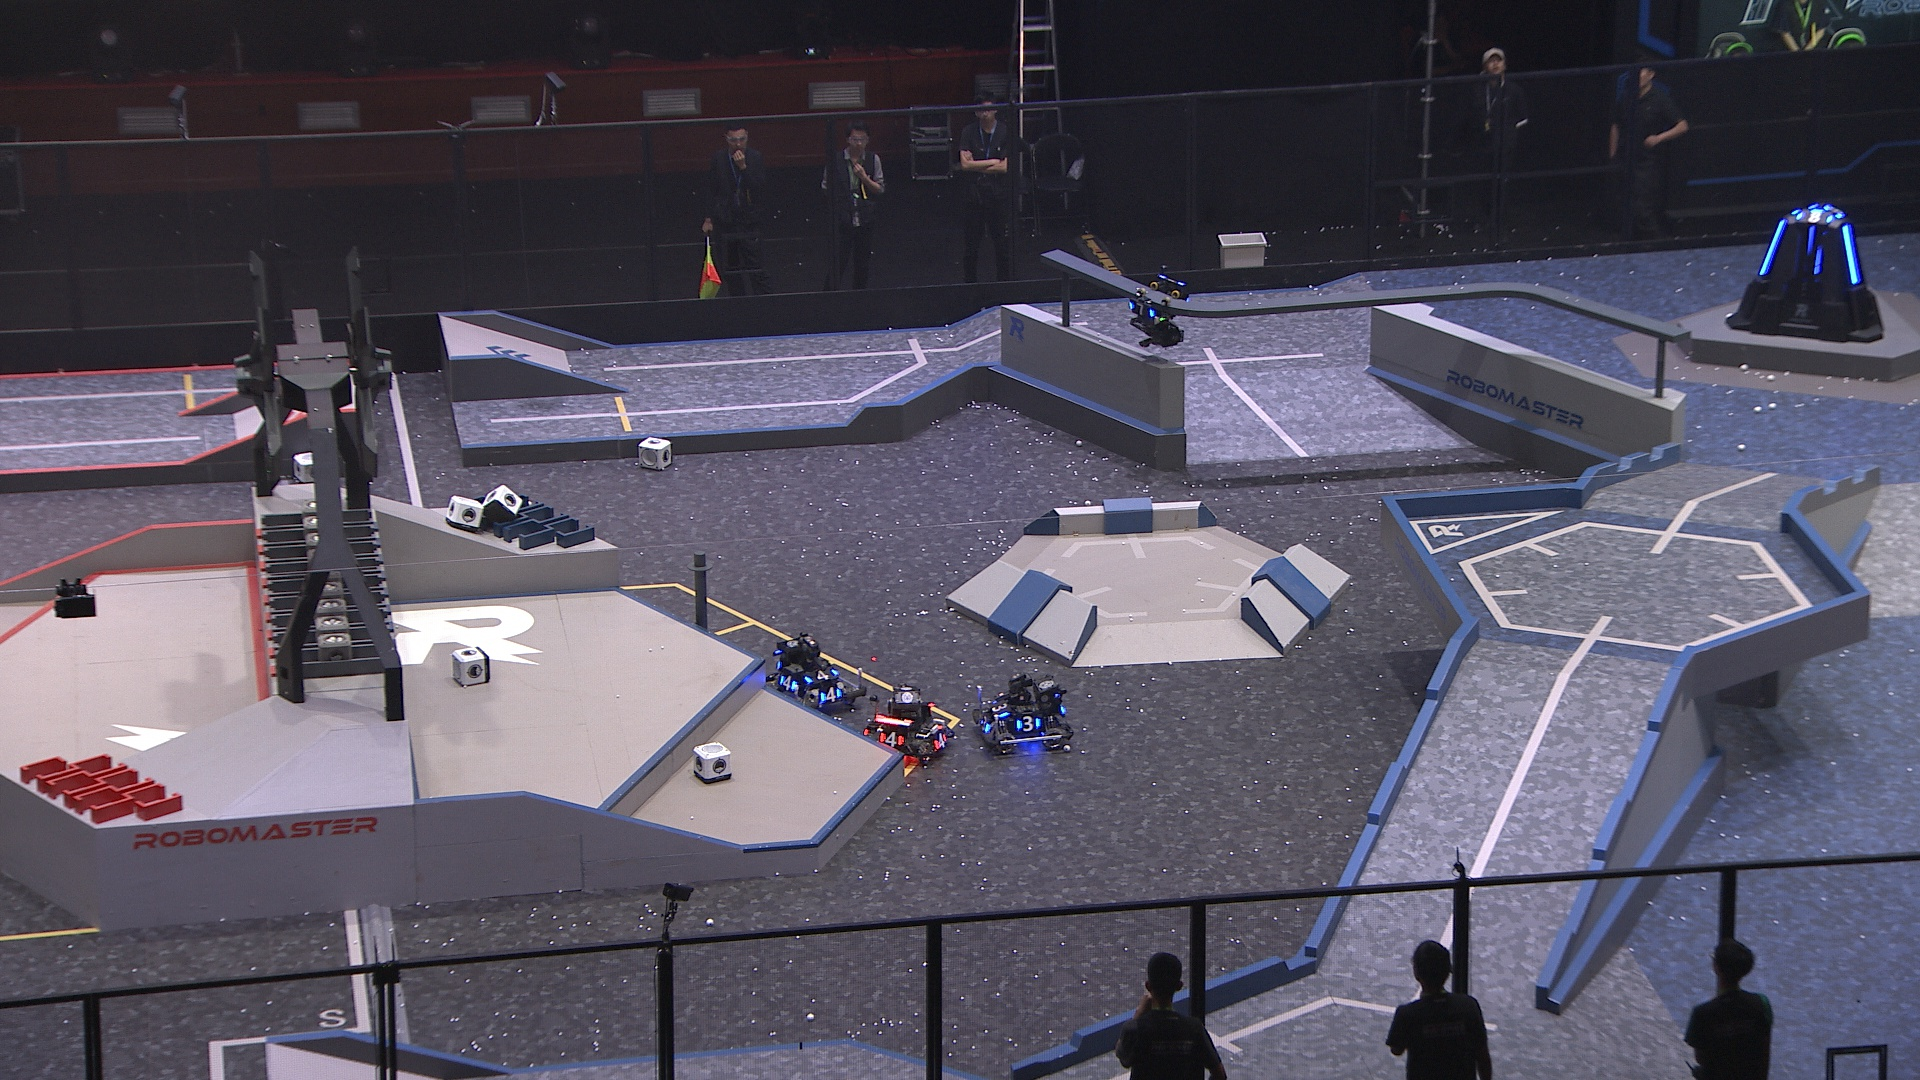armor: (1756, 215, 1785, 276), (1837, 223, 1859, 285), (1795, 207, 1836, 224), (802, 669, 837, 684), (1126, 301, 1156, 319), (1807, 223, 1820, 262), (816, 684, 843, 703), (775, 675, 799, 694), (975, 713, 993, 737), (877, 732, 906, 746), (989, 700, 1007, 723), (1017, 717, 1040, 733), (934, 731, 948, 750)
base: (1726, 199, 1884, 343)
car: (764, 633, 861, 719), (975, 678, 1077, 756), (866, 687, 953, 770)
watcher: (1124, 266, 1192, 349)
